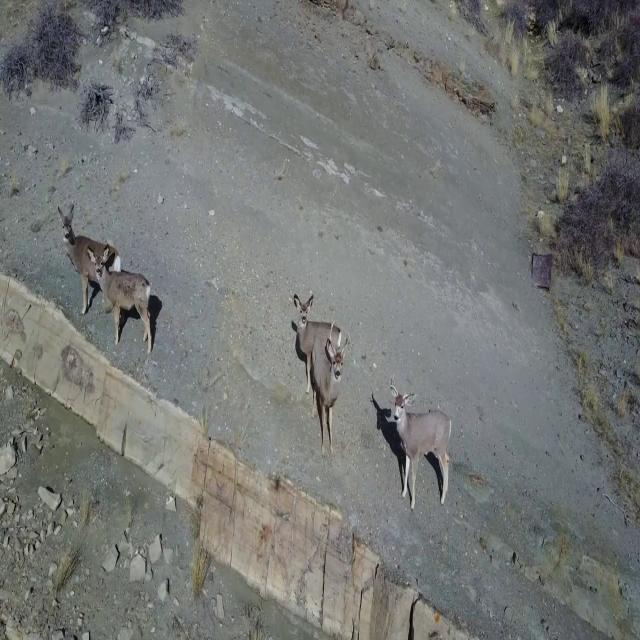Deer: (390, 373, 456, 512), (56, 201, 122, 315), (90, 245, 152, 359), (292, 292, 344, 408), (312, 330, 352, 460)
